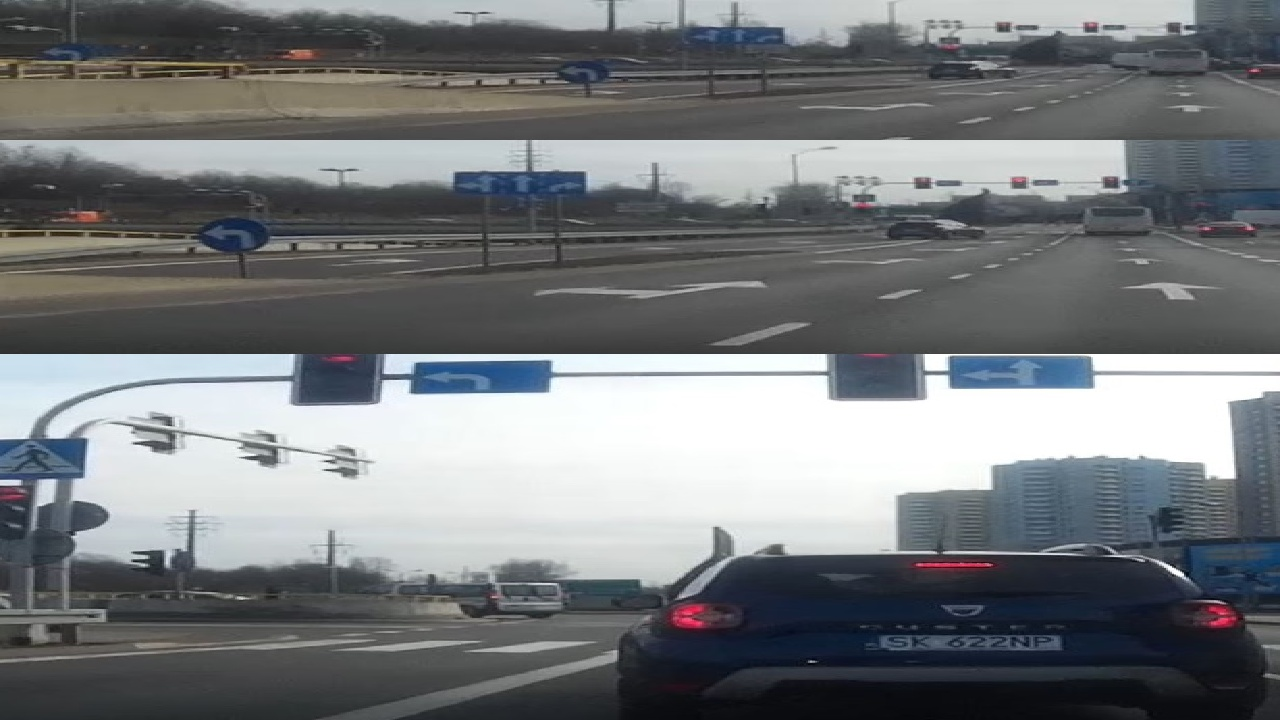C4: (193, 211, 274, 253)
D6: (1, 437, 89, 483)
